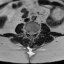CCS_normal: (30, 29, 32, 38)
LFS_normal: (34, 29, 36, 36)
LLS_normal: (32, 29, 34, 36)
RFS_normal: (26, 29, 28, 35)
RLS_normal: (28, 29, 30, 37)
